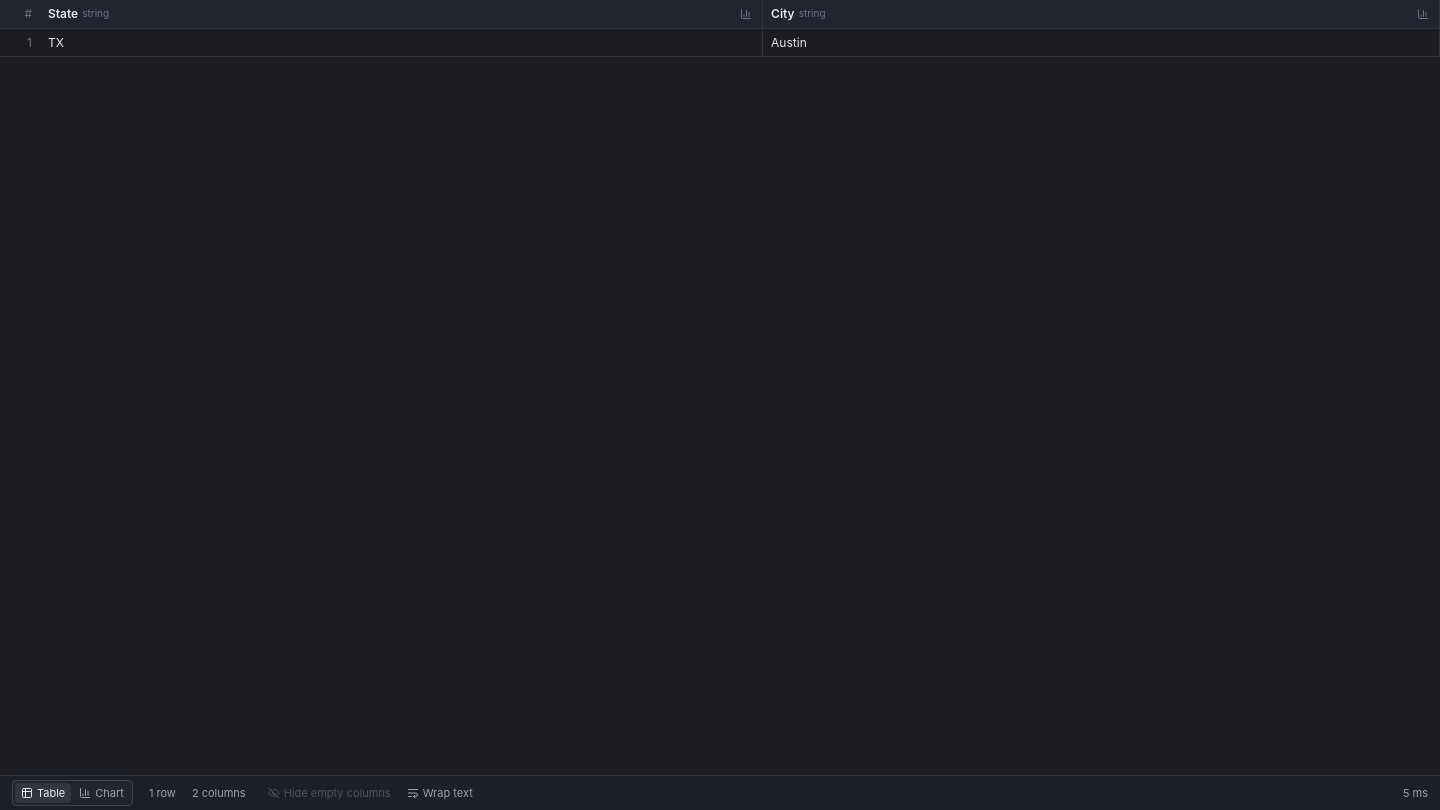
Test: ResultsView › shows a friendly message when there are no numeric columns to chart
Step 1. Click the button "Chart" → point(102, 793), box top-left (73, 782), bottom-right (130, 803)
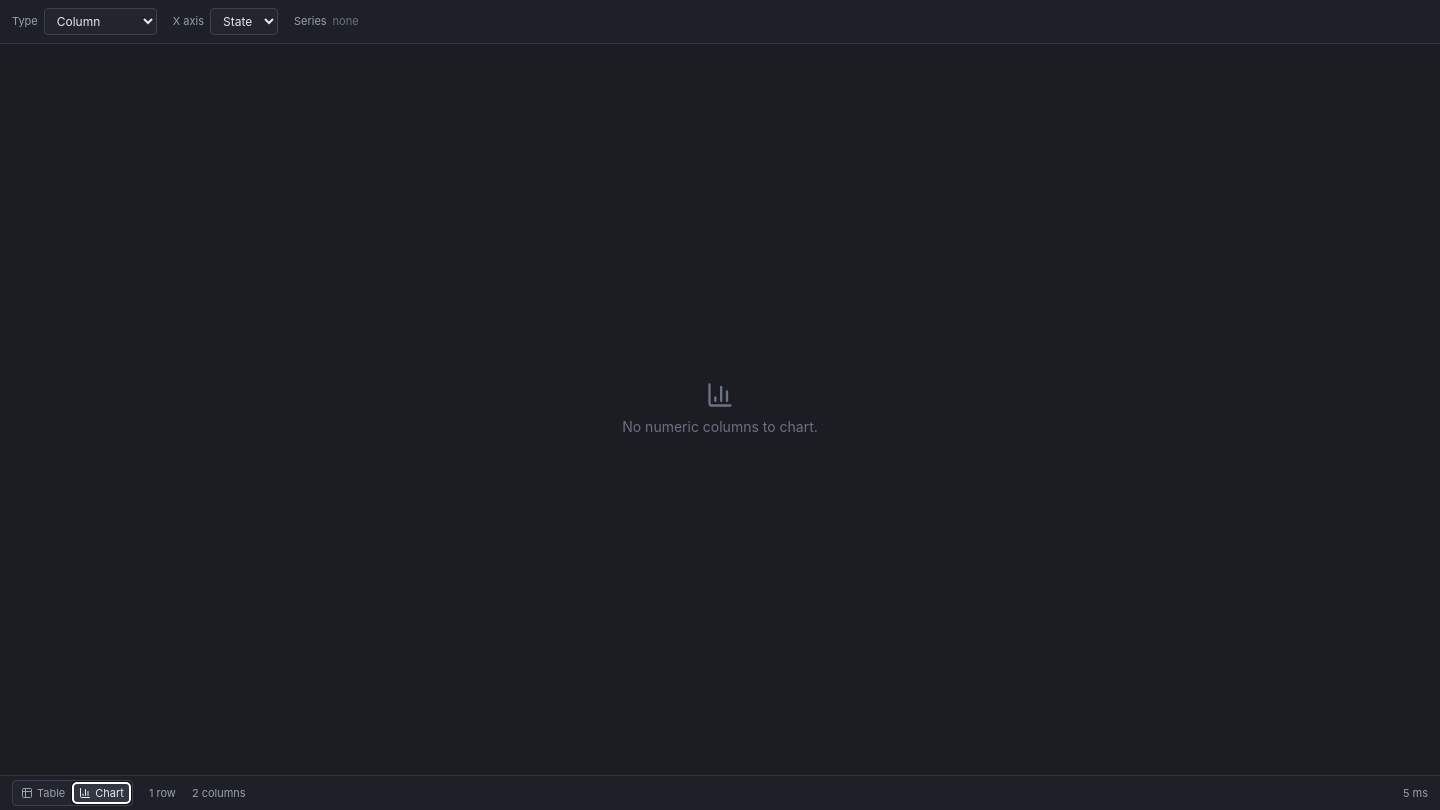
Expected: the text "No numeric columns to chart." is shown, top-left (622, 417), bottom-right (818, 437)
